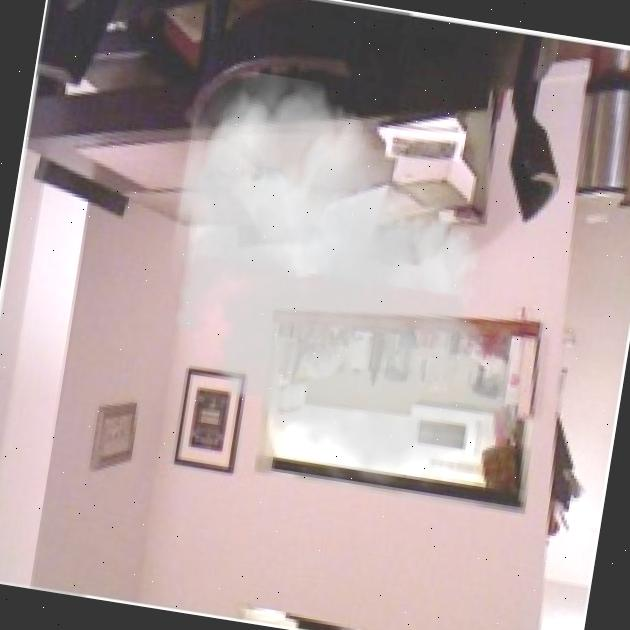smoke: (122, 61, 575, 520)
